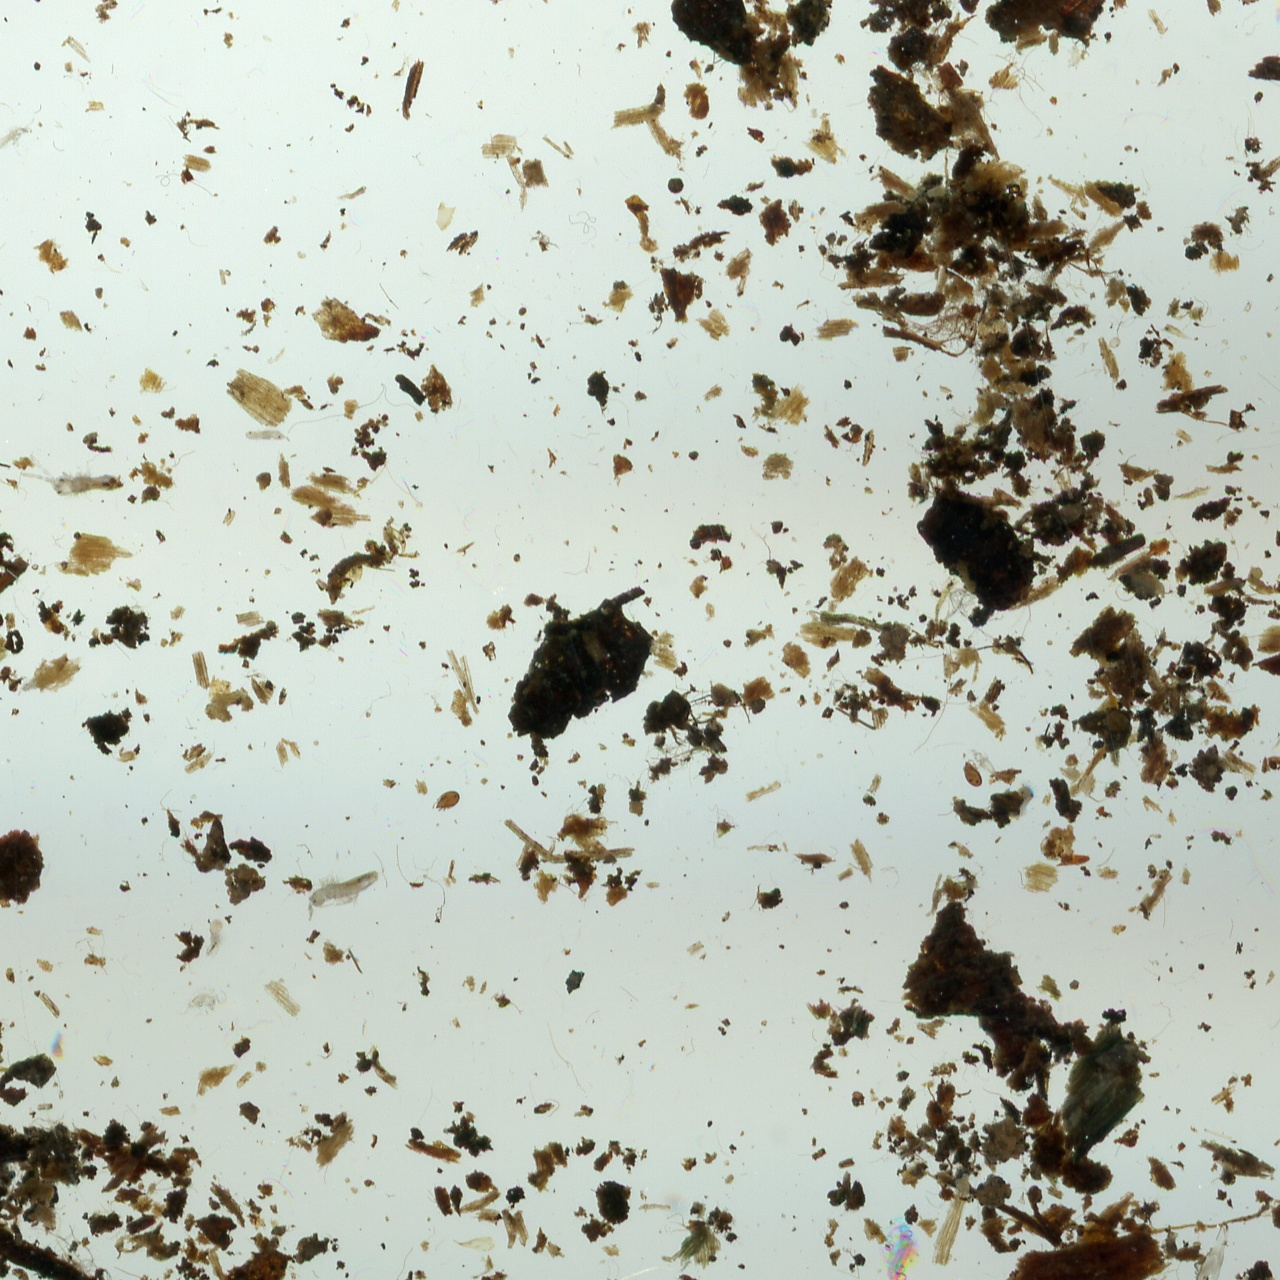arthropod: (295, 863, 387, 922), (0, 112, 49, 170), (17, 470, 125, 495), (883, 1220, 922, 1280), (170, 988, 230, 1018), (964, 743, 1003, 781), (203, 916, 227, 962), (245, 426, 293, 446), (12, 677, 45, 701), (433, 790, 461, 812)
